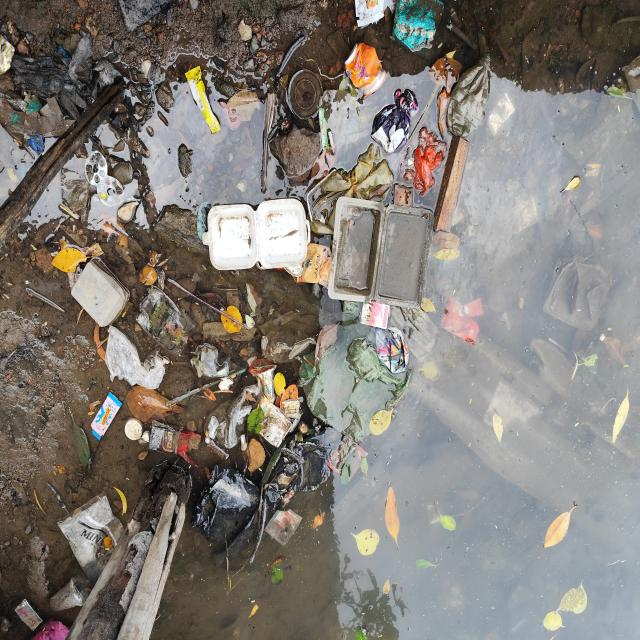Botol Plastik: (449, 53, 493, 142)
Bungkus Makanan: (330, 197, 437, 310), (200, 196, 313, 276), (56, 490, 128, 572), (136, 285, 196, 357), (184, 64, 223, 137), (91, 393, 124, 442), (14, 598, 46, 634)
Bungkus Minuman: (345, 42, 390, 99), (47, 577, 92, 613), (251, 358, 278, 406)
Kantong Plastik: (299, 328, 416, 437), (200, 469, 274, 569), (105, 327, 170, 393), (199, 388, 262, 454), (412, 126, 448, 198)
